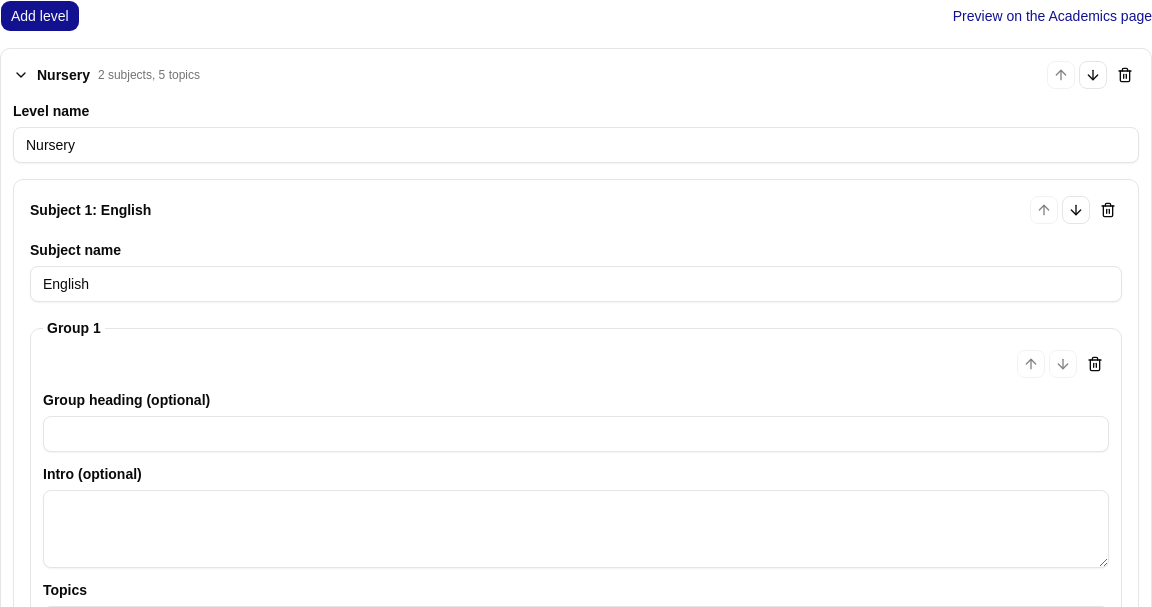
Test case: SyllabusEditor (014b) › removing › a level asks first and says how many topics go; cancelling keeps everything
Click the button named "Remove level: Nursery" at (1125, 75), box [1111,61,1139,89]
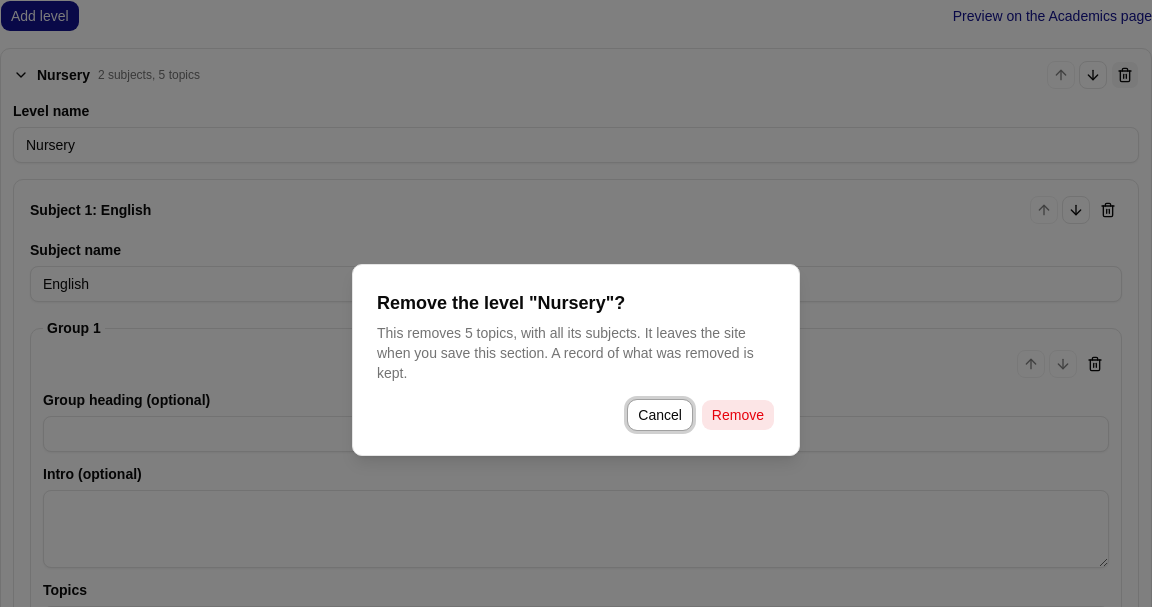
Now the text "This removes 5 topics" is shown, box [377,325,754,381]
Click the button "Cancel" at (660, 415), box [627,399,693,431]
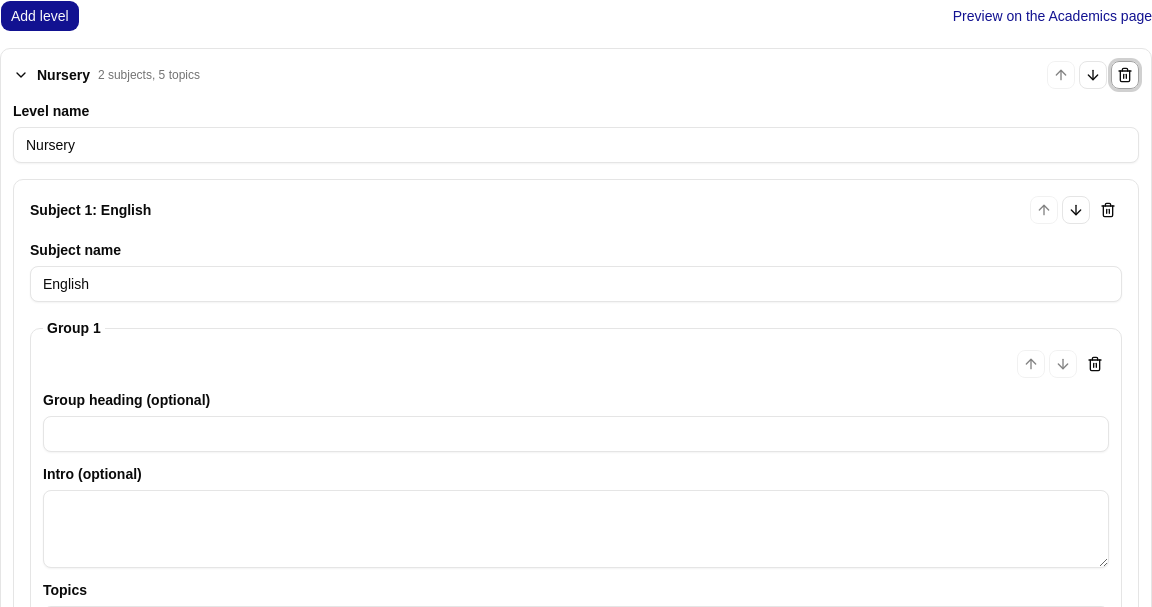
Now the text "This removes 5 topics" is gone
